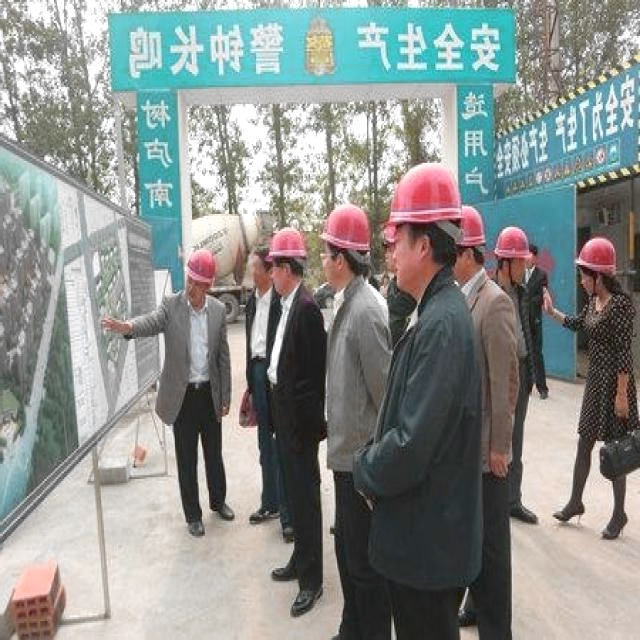Con_Casco: (317, 202, 368, 287), (574, 236, 616, 295), (495, 226, 532, 282), (184, 249, 215, 302)
